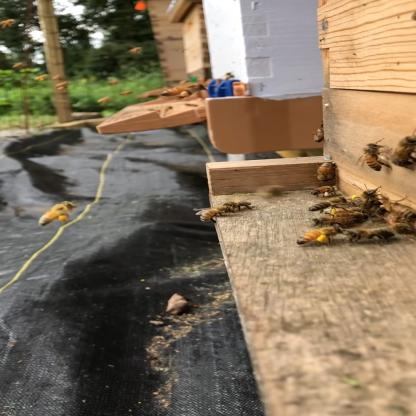bee: (299, 174, 416, 260), (181, 192, 260, 228), (20, 190, 90, 230), (359, 130, 416, 178), (304, 158, 350, 187), (304, 124, 335, 146)
